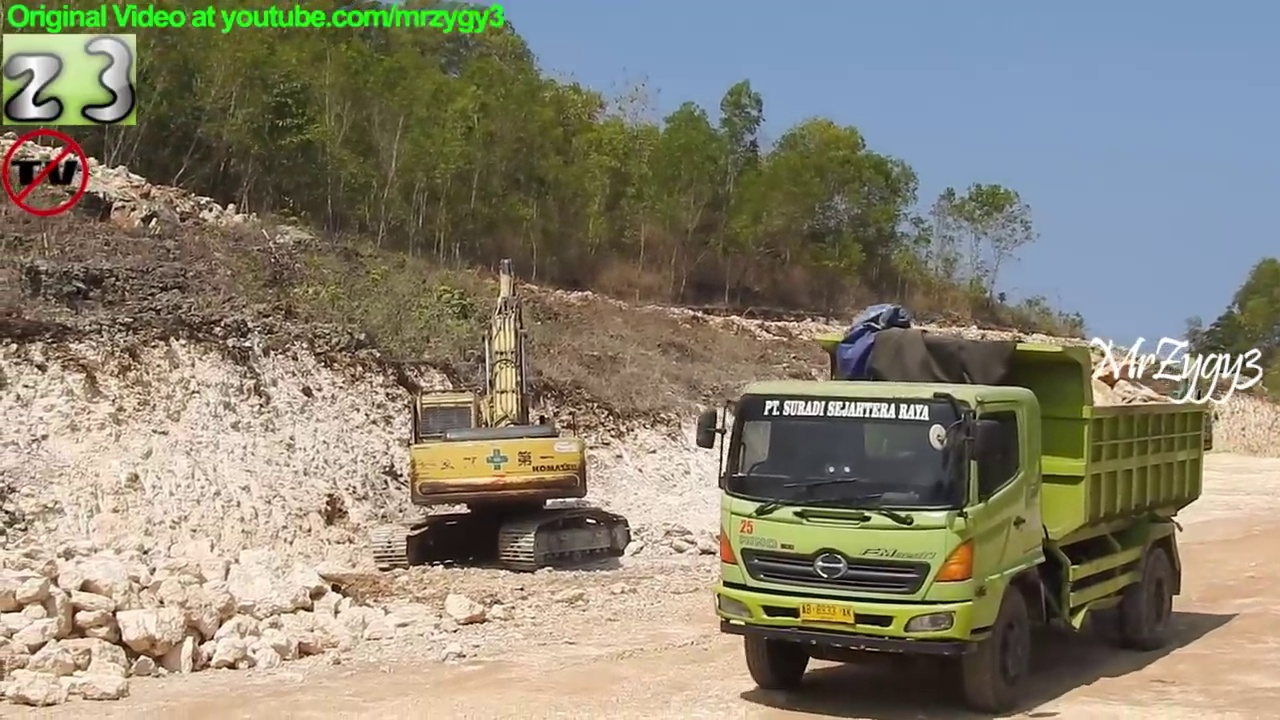excavator: (1143, 331, 1229, 457)
excavator breaker: (361, 248, 637, 581)
truck: (691, 298, 1222, 716)
